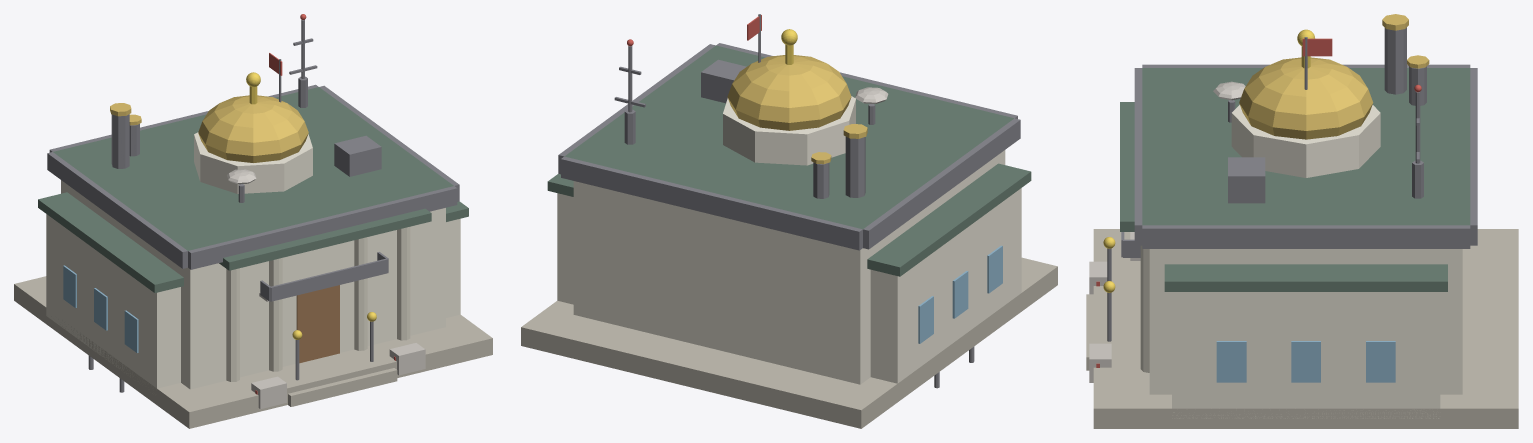
Rendered from nucleo.glb.
3 renders of one model, left to right at view 1: azimuth 30°, elevation 25°; view 2: azimuth 150°, elevation 25°; view 3: azimuth 270°, elevation 25°, orthographic. The views are drawn at different scales.
Visible parts, largest first — view 1: Nucleo; view 2: Nucleo; view 3: Nucleo.
Boxes of the visible parts, bbox=[...] form: Nucleo: bbox=[14, 14, 492, 428]; Nucleo: bbox=[521, 14, 1057, 428]; Nucleo: bbox=[1086, 14, 1518, 428].
Size of the model in its own units: 5.9 by 5 by 5.8.
